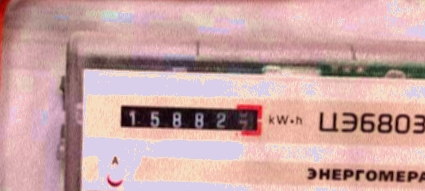1: (126, 108, 137, 127)
2: (214, 110, 226, 128)
5: (147, 109, 160, 127)
7: (236, 118, 248, 131)
8: (170, 110, 182, 127), (193, 111, 204, 128)
screen: (112, 93, 269, 141)
